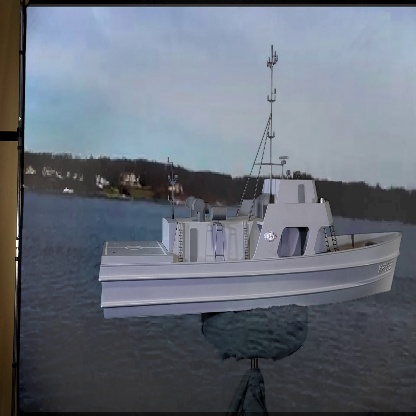YP689: (99, 44, 404, 321)
